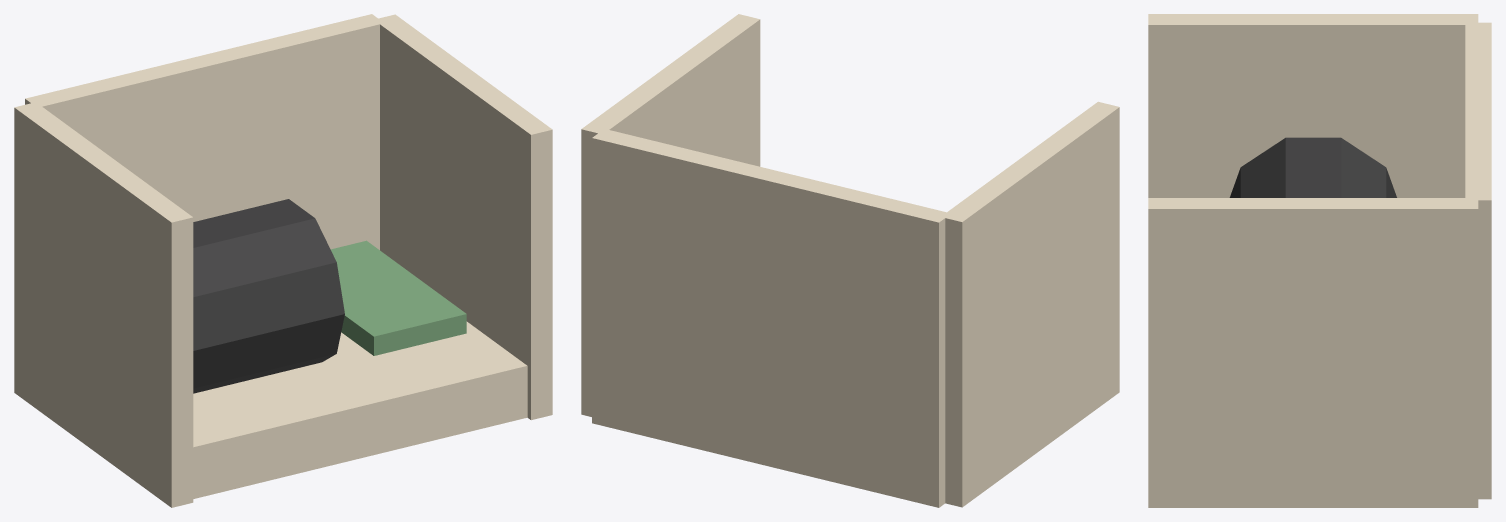
The picture shows the model from 3 angles, left to right: view 1: azimuth 30°, elevation 25°; view 2: azimuth 150°, elevation 25°; view 3: azimuth 270°, elevation 25°; orthographic projection. The views are drawn at different scales.
Parts seen in each view (by area): view 1: Side, Back, Side.001, Base, Motor, Circuit board; view 2: Back, Side, Side.001; view 3: Side.001, Side, Back, Motor.
Boxes of the visible parts, <box> form: Side: <box>14,103,193,507</box>; Back: <box>25,14,384,249</box>; Side.001: <box>378,14,552,420</box>; Base: <box>193,321,527,498</box>; Motor: <box>193,199,344,393</box>; Circuit board: <box>330,240,466,355</box>; Back: <box>592,129,951,507</box>; Side: <box>945,101,1119,507</box>; Side.001: <box>581,14,760,416</box>; Side.001: <box>1148,198,1478,507</box>; Side: <box>1148,14,1478,197</box>; Back: <box>1465,22,1491,499</box>; Motor: <box>1229,137,1396,197</box>.
Size of the model in its own units: 61.5 by 44 by 45.75.
